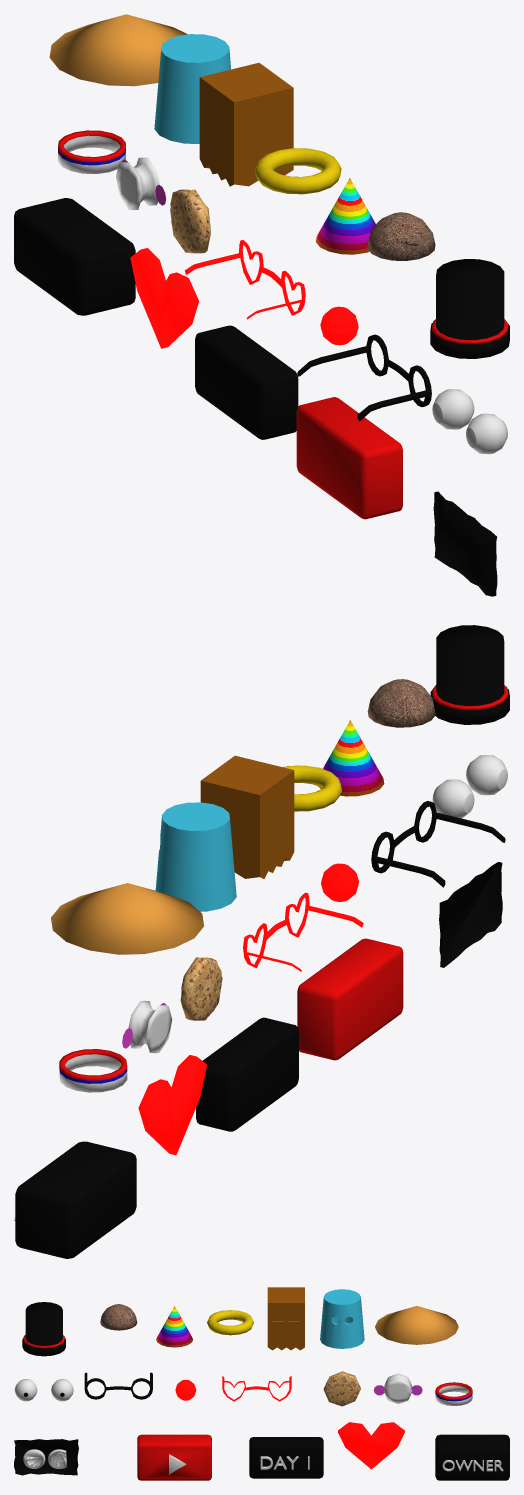
File: Keos Simple Cosmetics.fbx
The picture shows the model from 3 angles, top to bottom: view 1: azimuth 30°, elevation 25°; view 2: azimuth 150°, elevation 25°; view 3: azimuth 270°, elevation 25°; orthographic projection. The views are drawn at different scales.
Visible parts, largest first — view 1: Owner, Youtube, Paperbag, Day One, TopHat, Chineese Hat, Bucket Head, OG, Heart, Halo, Party Hat, Coconut (+8 smaller); view 2: Owner, Youtube, Day One, Paperbag, Chineese Hat, Bucket Head, TopHat, OG, Heart, Coconut, Party Hat, Swaetband (+8 smaller); view 3: Youtube, Owner, Day One, Chineese Hat, Paperbag, Bucket Head, OG, TopHat, Heart, Cookie, Party Hat, Halo (+8 smaller).
Boxes of the visible parts, x1,y1,x2,y2 form: Owner: (14,198,135,315); Youtube: (296,397,402,519); Paperbag: (199,62,293,186); Day One: (195,325,298,439); TopHat: (430,259,509,358); Chineese Hat: (49,14,187,86); Bucket Head: (154,34,230,143); OG: (433,491,497,596); Heart: (130,248,198,348); Halo: (255,148,341,194); Party Hat: (316,178,375,254); Coconut: (367,212,435,260); Owner: (14,1141,136,1258); Youtube: (297,938,403,1060); Day One: (196,1017,298,1131); Paperbag: (200,755,294,878); Chineese Hat: (51,883,203,954); Bucket Head: (155,802,236,911); TopHat: (430,625,509,724); OG: (439,862,502,967); Heart: (138,1055,206,1155); Coconut: (367,679,435,727); Party Hat: (318,720,384,796); Swaetband: (59,1049,127,1092); Youtube: (137,1434,211,1480); Owner: (435,1434,509,1480); Day One: (249,1437,323,1478); Chineese Hat: (375,1306,458,1344); Paperbag: (267,1287,304,1350); Bucket Head: (320,1289,364,1348); OG: (14,1439,78,1475); TopHat: (22,1302,65,1356); Heart: (338,1422,404,1469); Cookie: (323,1371,360,1406); Party Hat: (156,1306,192,1347); Halo: (207,1310,253,1335).
Size of the model in its own units: 470 by 1074 by 2662.
Materials: 16 (3 with a texture image).
